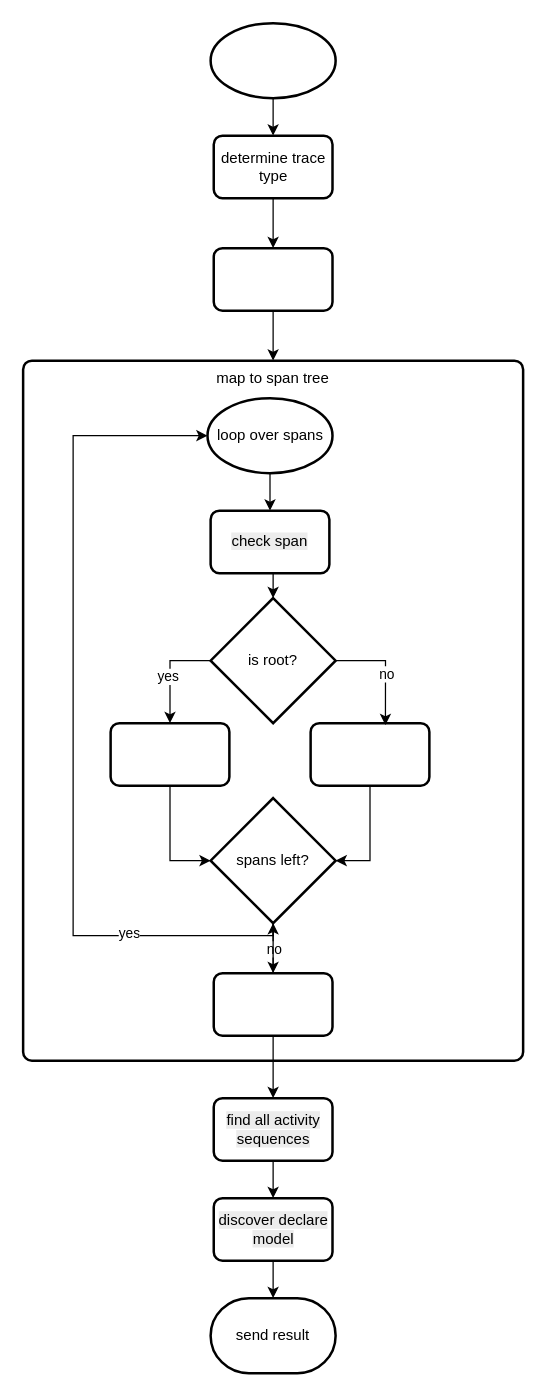
Some shapes in this 545 by 1395 pixel diagram are drawn without their labels. The shapes that lost their labels are listed below. From the top down, each one's box as (x1, y1, x2, y2) in pixels, then its label:
(209, 21, 336, 99): receive trace
(212, 246, 333, 311): decode
(109, 721, 230, 786): add to roots list
(309, 721, 430, 786): add to nodes list
(212, 971, 333, 1036): build tree(s) from roots and nodes
